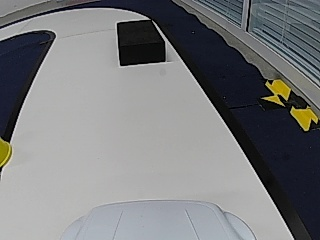block: (117, 20, 165, 66)
cone: (0, 137, 11, 167)
